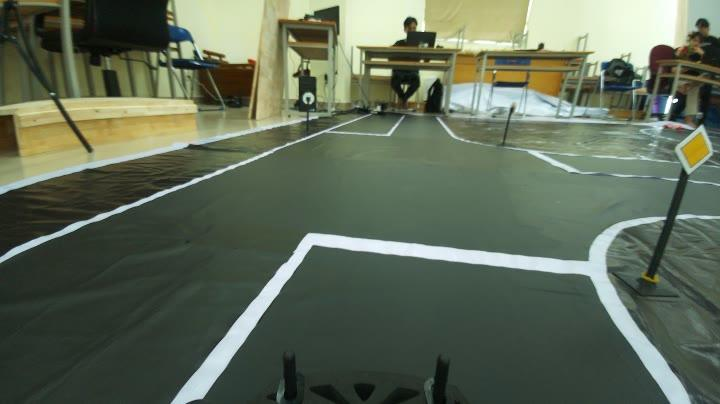priority: (666, 122, 716, 176)
